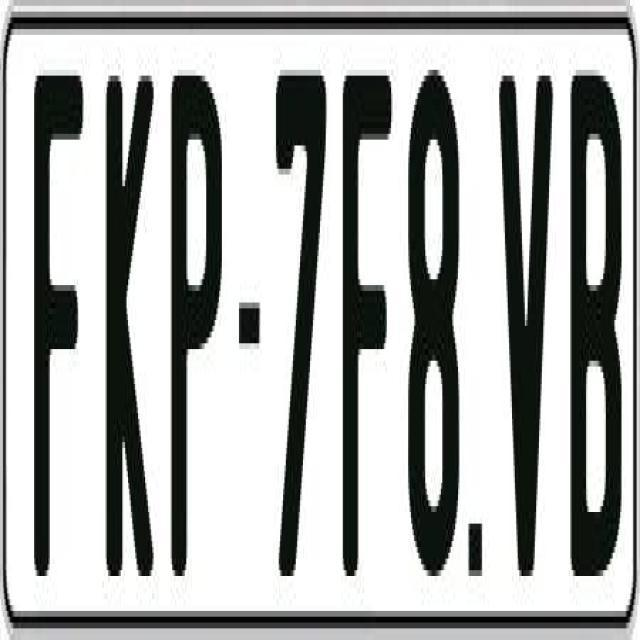7: (276, 58, 334, 558)
8: (404, 70, 458, 594)
B: (569, 76, 616, 600)
F: (33, 70, 90, 594), (338, 76, 394, 606)
K: (105, 58, 155, 588)
P: (169, 64, 221, 576)
V: (499, 58, 559, 570)
